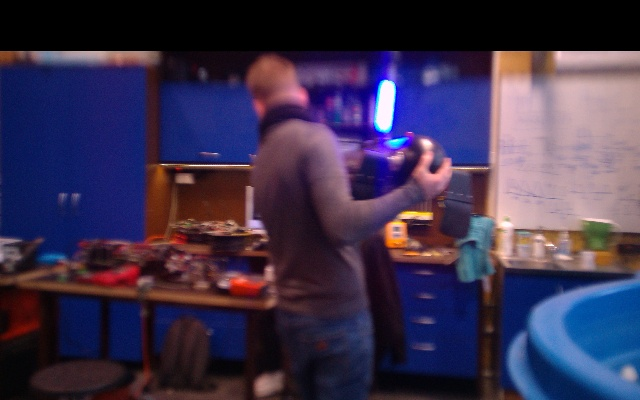blue: (374, 78, 397, 133)
